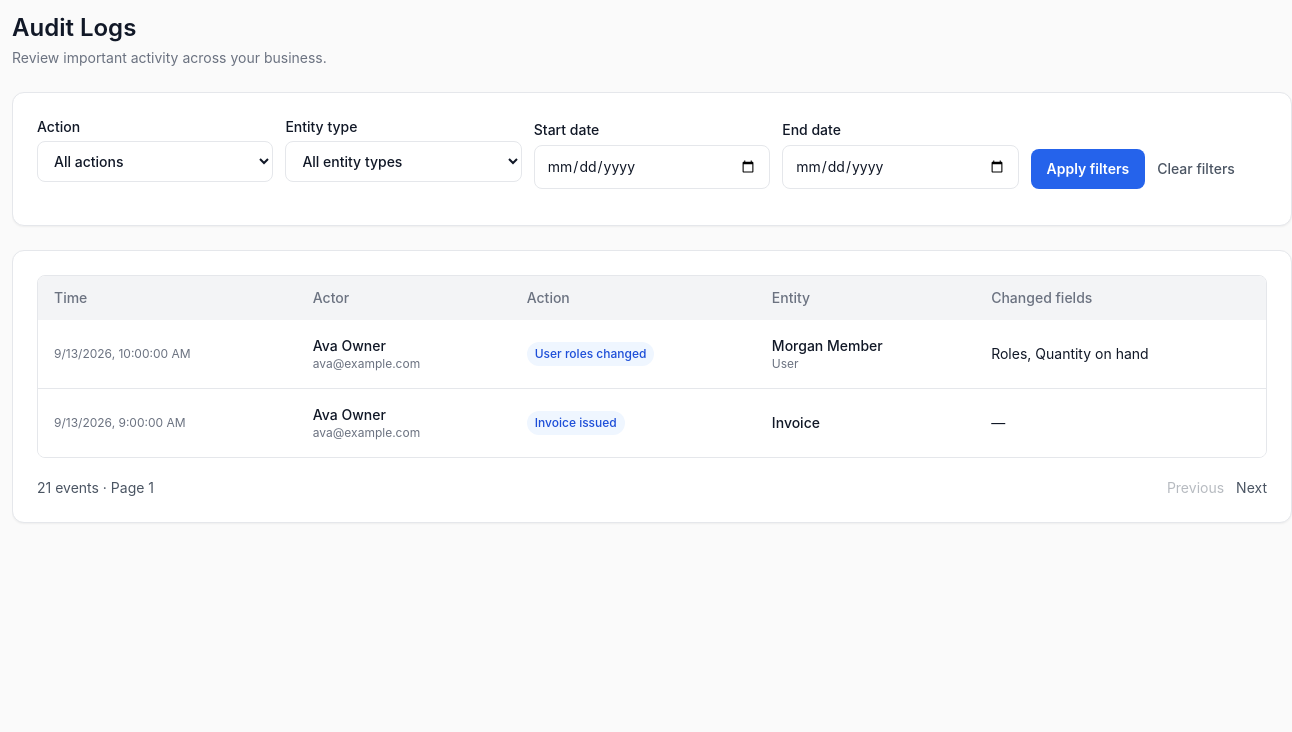
Scenario: audit logs viewer › rejects a reversed date range locally without making an invalid request
Expected: the text "Morgan Member" is shown, [772,337,883,354]
Type "2026-10-01" into the date field labelled "Start date" at (652, 167), box [534,145,770,189]
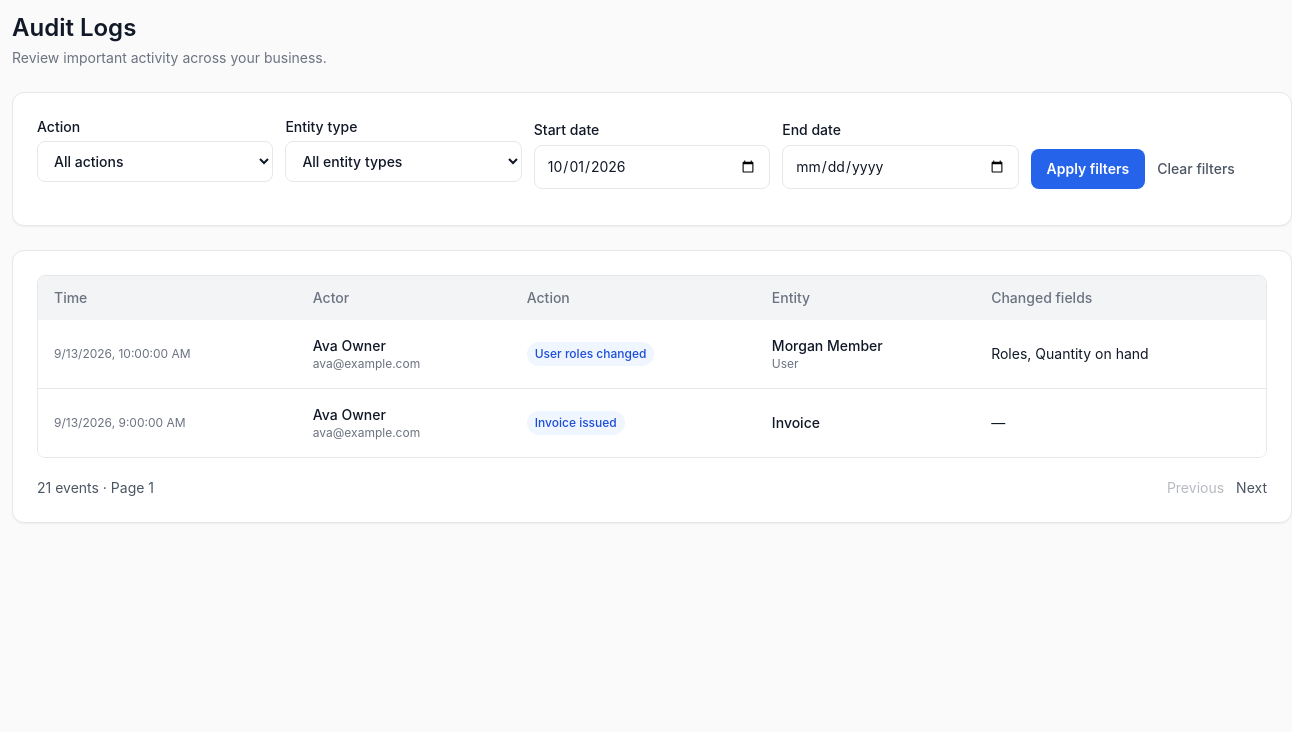
Type "2026-09-01" into the date field labelled "End date" at (900, 167), box [782,145,1019,189]
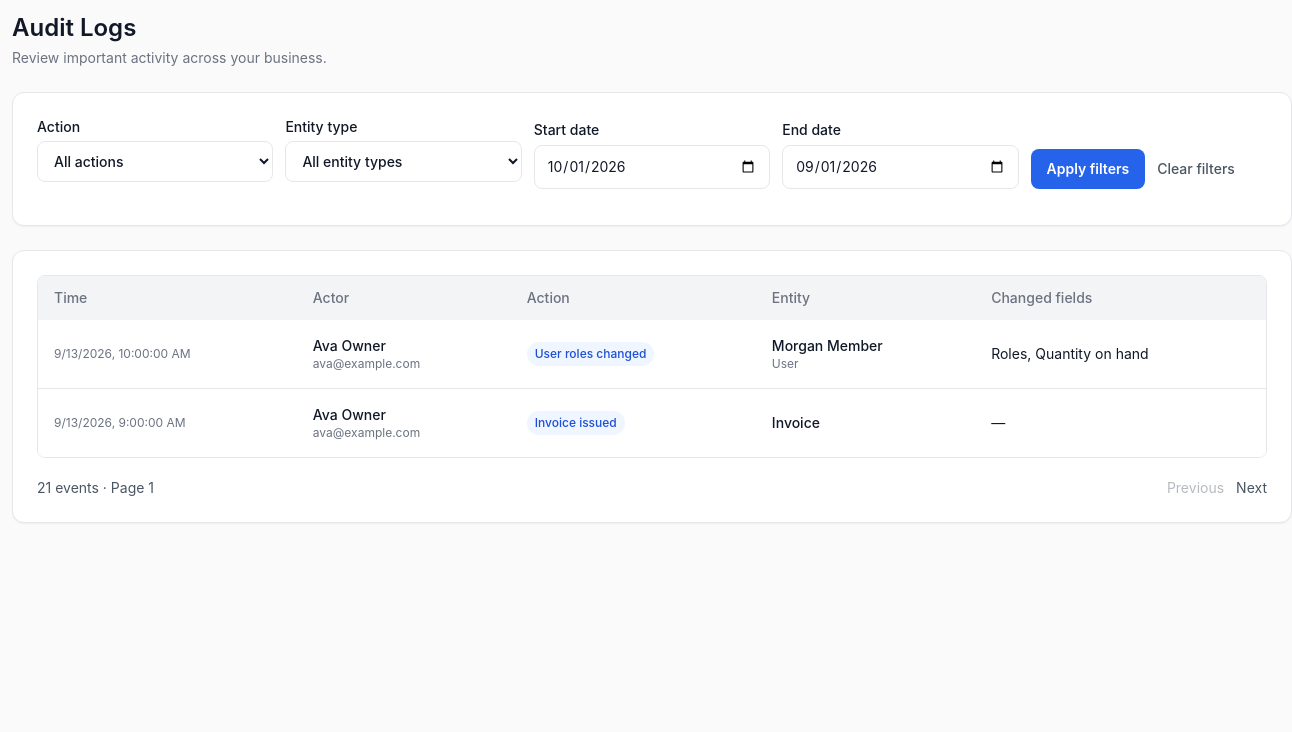
Click the button "Apply filters" at (1088, 169), box [1031,149,1145,189]
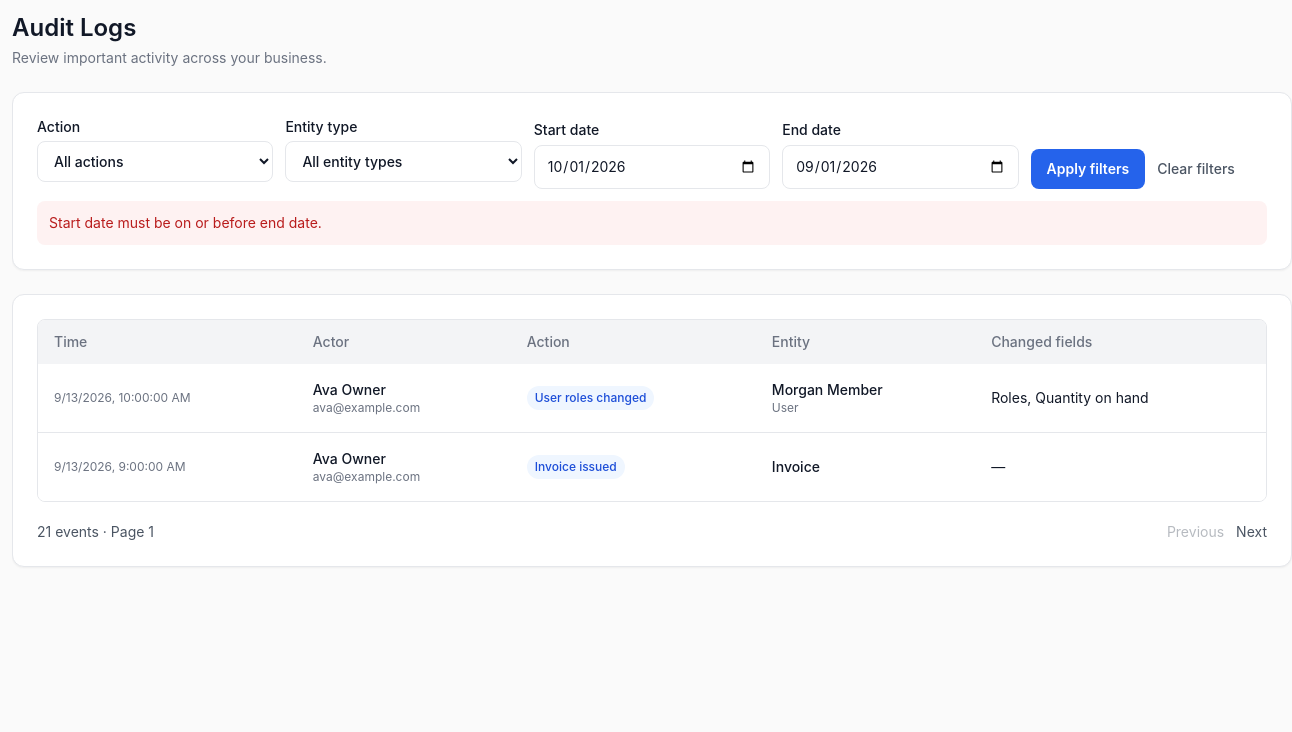
Expected: the text "Start date must be on or before end date." is shown, [37,201,1267,245]
